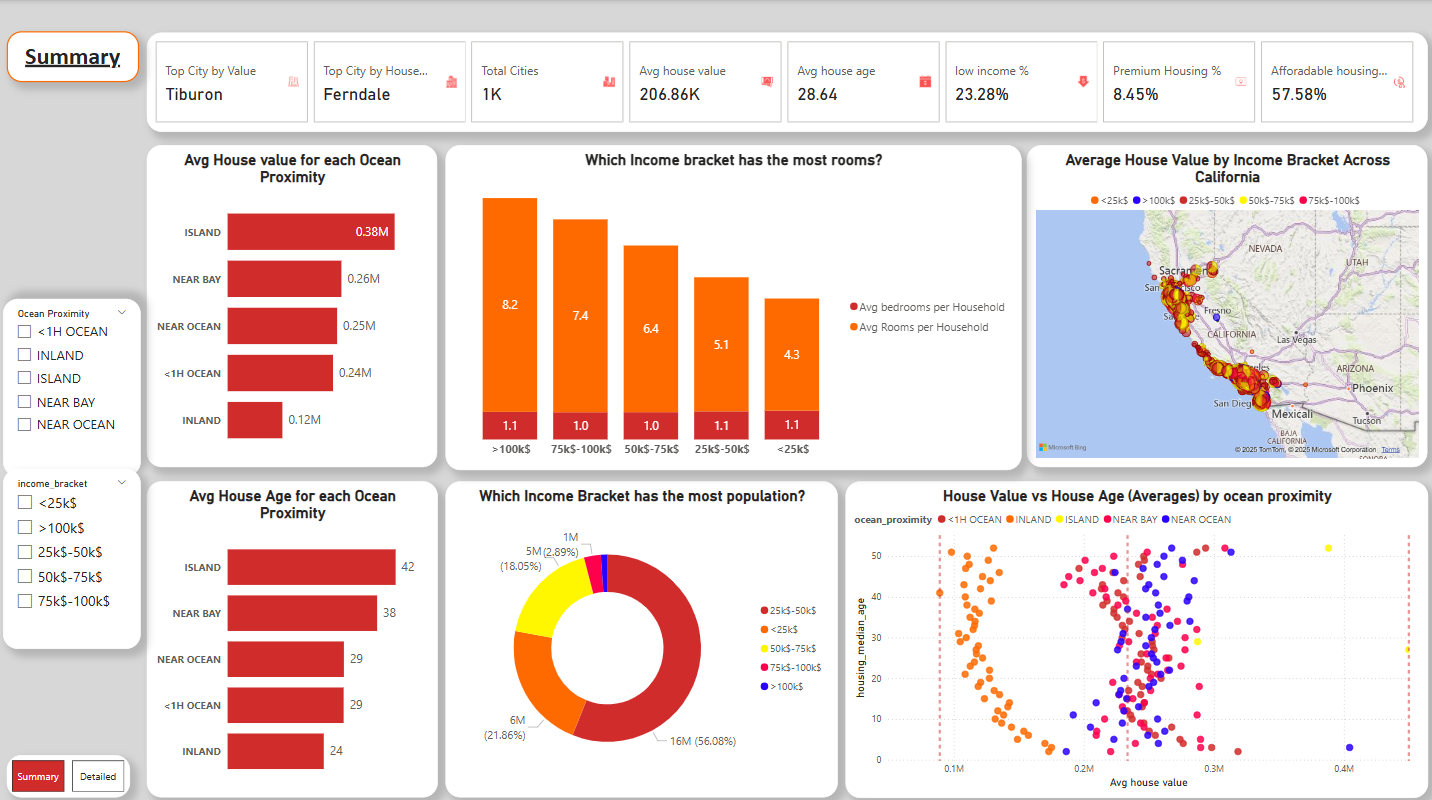

This screenshot's page, from the dashboard's own definition file:
{"tool":"powerbi","page":{"name":"Summary","canvas":[1920,1080],"ordinal":0},"visuals":[{"type":"cardVisual","fields":{"Data":["housing_cleaned.Top City by Value","housing_cleaned.Top City by House Age","housing_cleaned.Total Cities","housing_cleaned.Average house value","housing_cleaned.Average house age","housing_cleaned.low income ratio","housing_cleaned.Premium Housing ratio","housing_cleaned.Afforadable housing ratio"]},"box":[198.4,43.9,1711.4,132.5],"z":0},{"type":"barChart","title":"Avg House value for each Ocean Proximity","fields":{"Category":["housing_cleaned.ocean_proximity"],"Y":["housing_cleaned.Average house value"]},"box":[198.8,193.3,388.3,430.7],"z":1000},{"type":"barChart","title":"Avg House Age for each Ocean Proximity","fields":{"Category":["housing_cleaned.ocean_proximity"],"Y":["housing_cleaned.Average house age"]},"box":[198.4,642.3,388.6,422.8],"z":2000},{"type":"map","title":"Average House Value by Income Bracket Across California","fields":{"X":["housing_cleaned.longitude"],"Y":["housing_cleaned.latitude"],"Series":["housing_cleaned.income_bracket"],"Size":["housing_cleaned.Average house value"]},"box":[1374.9,193.3,535.6,430.7],"z":3000},{"type":"donutChart","title":"Which Income Bracket has the most population?","fields":{"Category":["housing_cleaned.income_bracket"],"Y":["housing_cleaned.Total Population"]},"box":[598.4,642.3,524.4,422.8],"z":4000},{"type":"scatterChart","title":"House Value vs House Age (Averages) by ocean proximity","fields":{"X":["housing_cleaned.Avg house value"],"Y":["housing_cleaned.housing_median_age"],"Series":["housing_cleaned.ocean_proximity"]},"box":[1131.9,642.3,778.5,423.3],"z":5000},{"type":"columnChart","title":"Which Income bracket has the most rooms?","fields":{"Category":["housing_cleaned.income_bracket"],"Y":["housing_cleaned.Average number of bedrooms","housing_cleaned.Total Rooms"]},"box":[598.2,193.3,769.3,434.4],"z":6000},{"type":"slicer","fields":{"Values":["housing_cleaned.ocean_proximity"]},"box":[7.4,399.3,184.1,237.4],"z":7000,"group":"g1"},{"type":"group","id":"g1","title":"Group 1","box":[7.4,399.3,184.1,468.4],"z":7000},{"type":"textbox","box":[11,42.3,176.7,68.1],"z":8000},{"type":"slicer","fields":{"Values":["housing_cleaned.income_bracket"]},"box":[7.4,626.6,184.1,241.1],"z":8000,"group":"g1"},{"type":"pageNavigator","box":[11.4,1008.1,165,56.9],"z":9000}]}

Visuals, with their boxes in screenshot pixels (x1, y1, x2, y2), scaled from the page's 1920x1080 canvas onto the 1432x800 screenshot:
cardVisual - housing_cleaned.Top City by Value x housing_cleaned.Top City by House Age: 148,33,1424,131
"Avg House value for each Ocean Proximity" barChart: 148,143,438,462
"Avg House Age for each Ocean Proximity" barChart: 148,476,438,789
"Average House Value by Income Bracket Across California" map: 1025,143,1425,462
"Which Income Bracket has the most population?" donutChart: 446,476,837,789
"House Value vs House Age (Averages) by ocean proximity" scatterChart: 844,476,1425,789
"Which Income bracket has the most rooms?" columnChart: 446,143,1020,465
slicer - housing_cleaned.ocean_proximity: 6,296,143,472
"Group 1" group: 6,296,143,643
textbox: 8,31,140,82
slicer - housing_cleaned.income_bracket: 6,464,143,643
pageNavigator: 9,747,132,789
